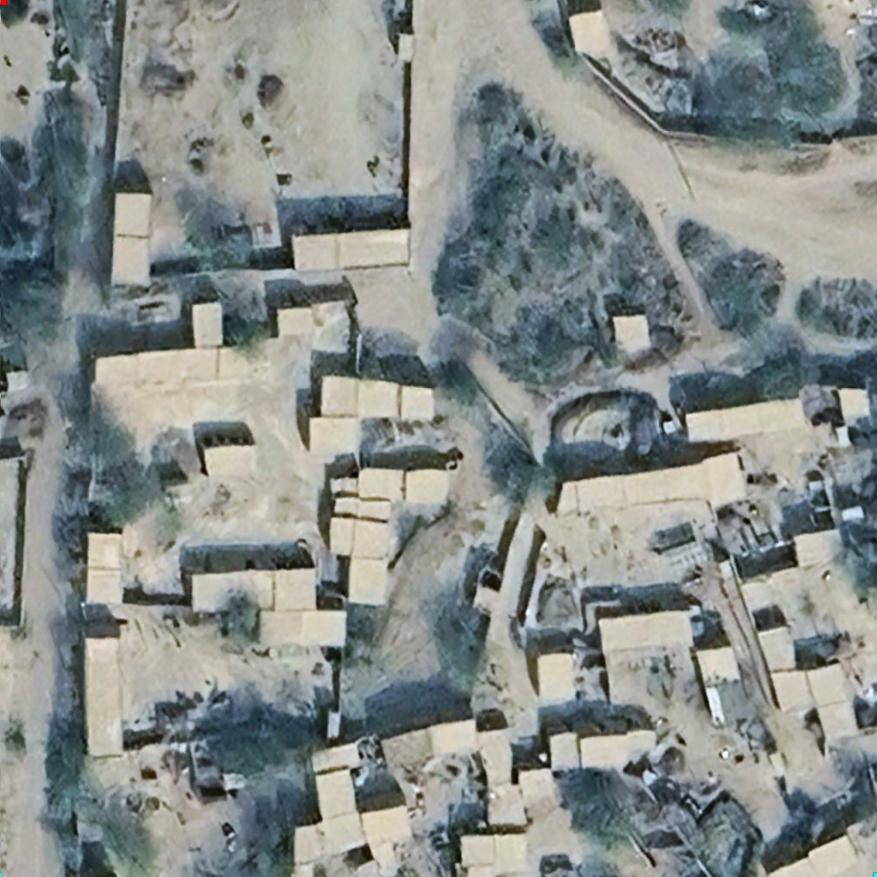Solarpanel: (661, 541, 711, 573)
